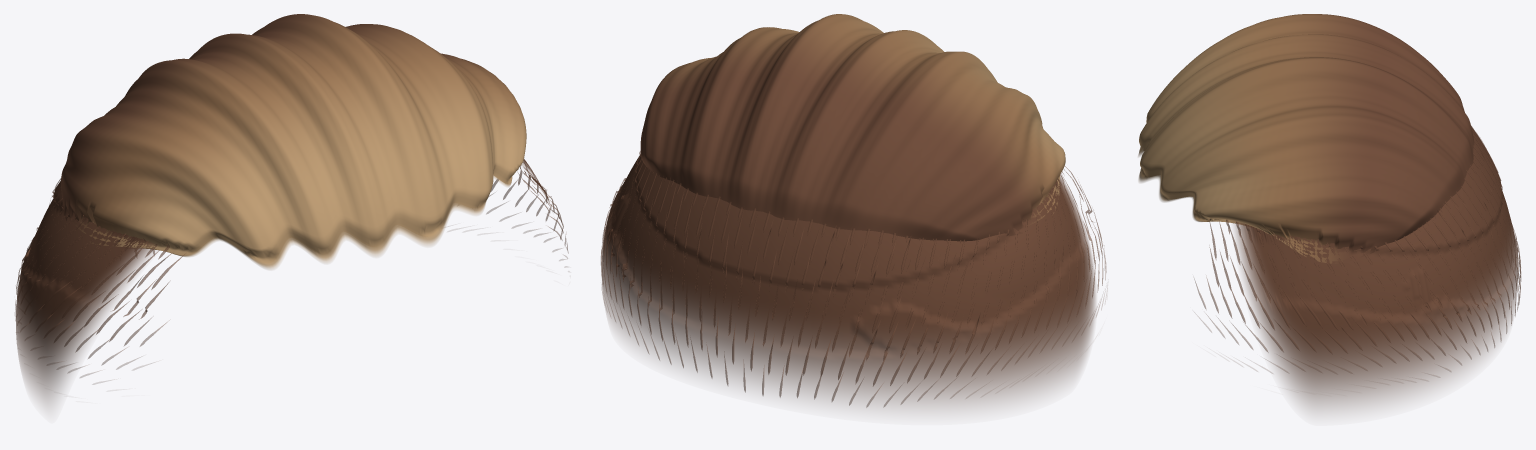
Rendered from Masculine-sidepart-headband259-hair-ombre.glb.
3 renders of one model, left to right at view 1: azimuth 30°, elevation 25°; view 2: azimuth 150°, elevation 25°; view 3: azimuth 270°, elevation 25°, orthographic. The views are drawn at different scales.
Visible parts, largest first — view 1: 226 hair / Hair259 / textured forward Crop, 226 hair / Hair258 / smooth side fade, 226 hair / Hair259 / directional fade marks214; view 2: 226 hair / Hair258 / smooth side fade, 226 hair / Hair259 / textured forward Crop, 226 hair / Hair259 / directional fade marks214; view 3: 226 hair / Hair259 / textured forward Crop, 226 hair / Hair258 / smooth side fade, 226 hair / Hair259 / directional fade marks214.
Boxes of the visible parts, x1,y1,x2,y2 form: 226 hair / Hair259 / textured forward Crop: (61,14,526,269); 226 hair / Hair258 / smooth side fade: (16,159,551,405); 226 hair / Hair259 / directional fade marks214: (15,160,568,384); 226 hair / Hair258 / smooth side fade: (601,154,1095,409); 226 hair / Hair259 / textured forward Crop: (640,14,1065,241); 226 hair / Hair259 / directional fade marks214: (601,151,1107,407); 226 hair / Hair259 / textured forward Crop: (1138,14,1474,263); 226 hair / Hair258 / smooth side fade: (1234,128,1518,411); 226 hair / Hair259 / directional fade marks214: (1194,125,1521,380).
Bounding box in the file's own units: 0.9743 × 0.6424 × 0.7545.
